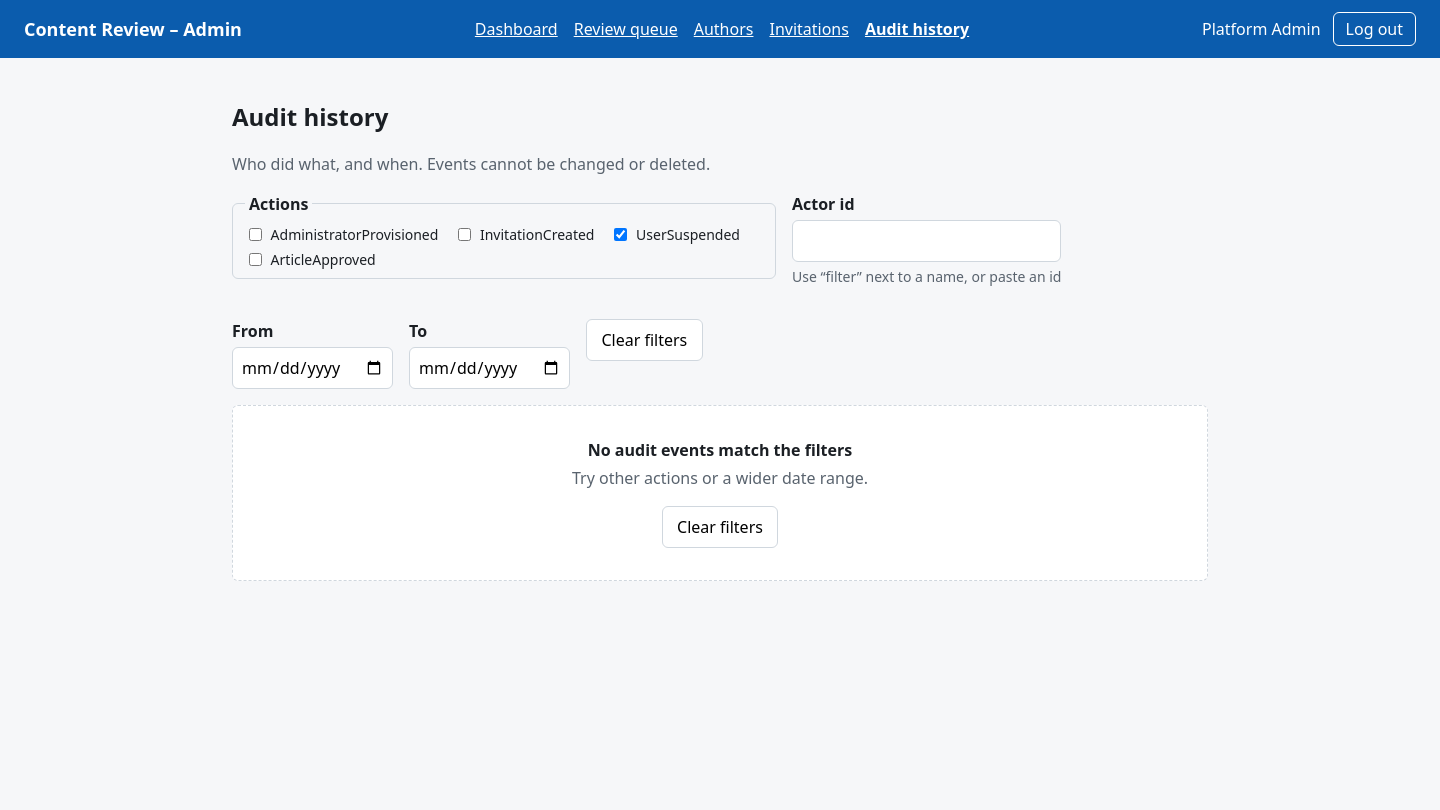
Test: states › says no events match, and clears the filters
The width and height of the screenshot is (1440, 810).
Expected: the text "No audit events match the filters" is shown, [588,439,852,461]
Click the button with test id "audit-clear-filters" at {"x": 720, "y": 527}, box [662,506,778,548]
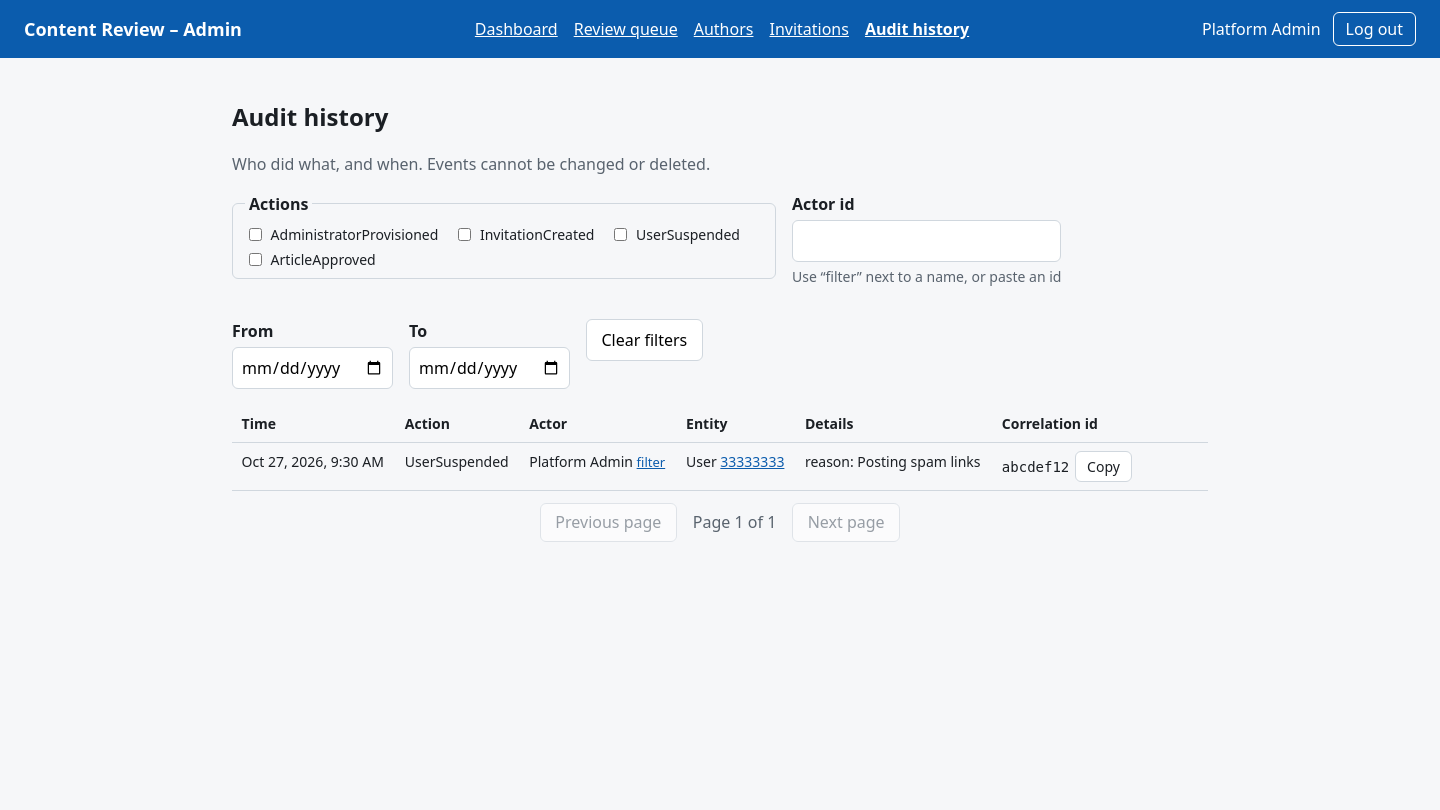
Result: the row with test id "audit-row" is shown at [232,442,1208,490]
